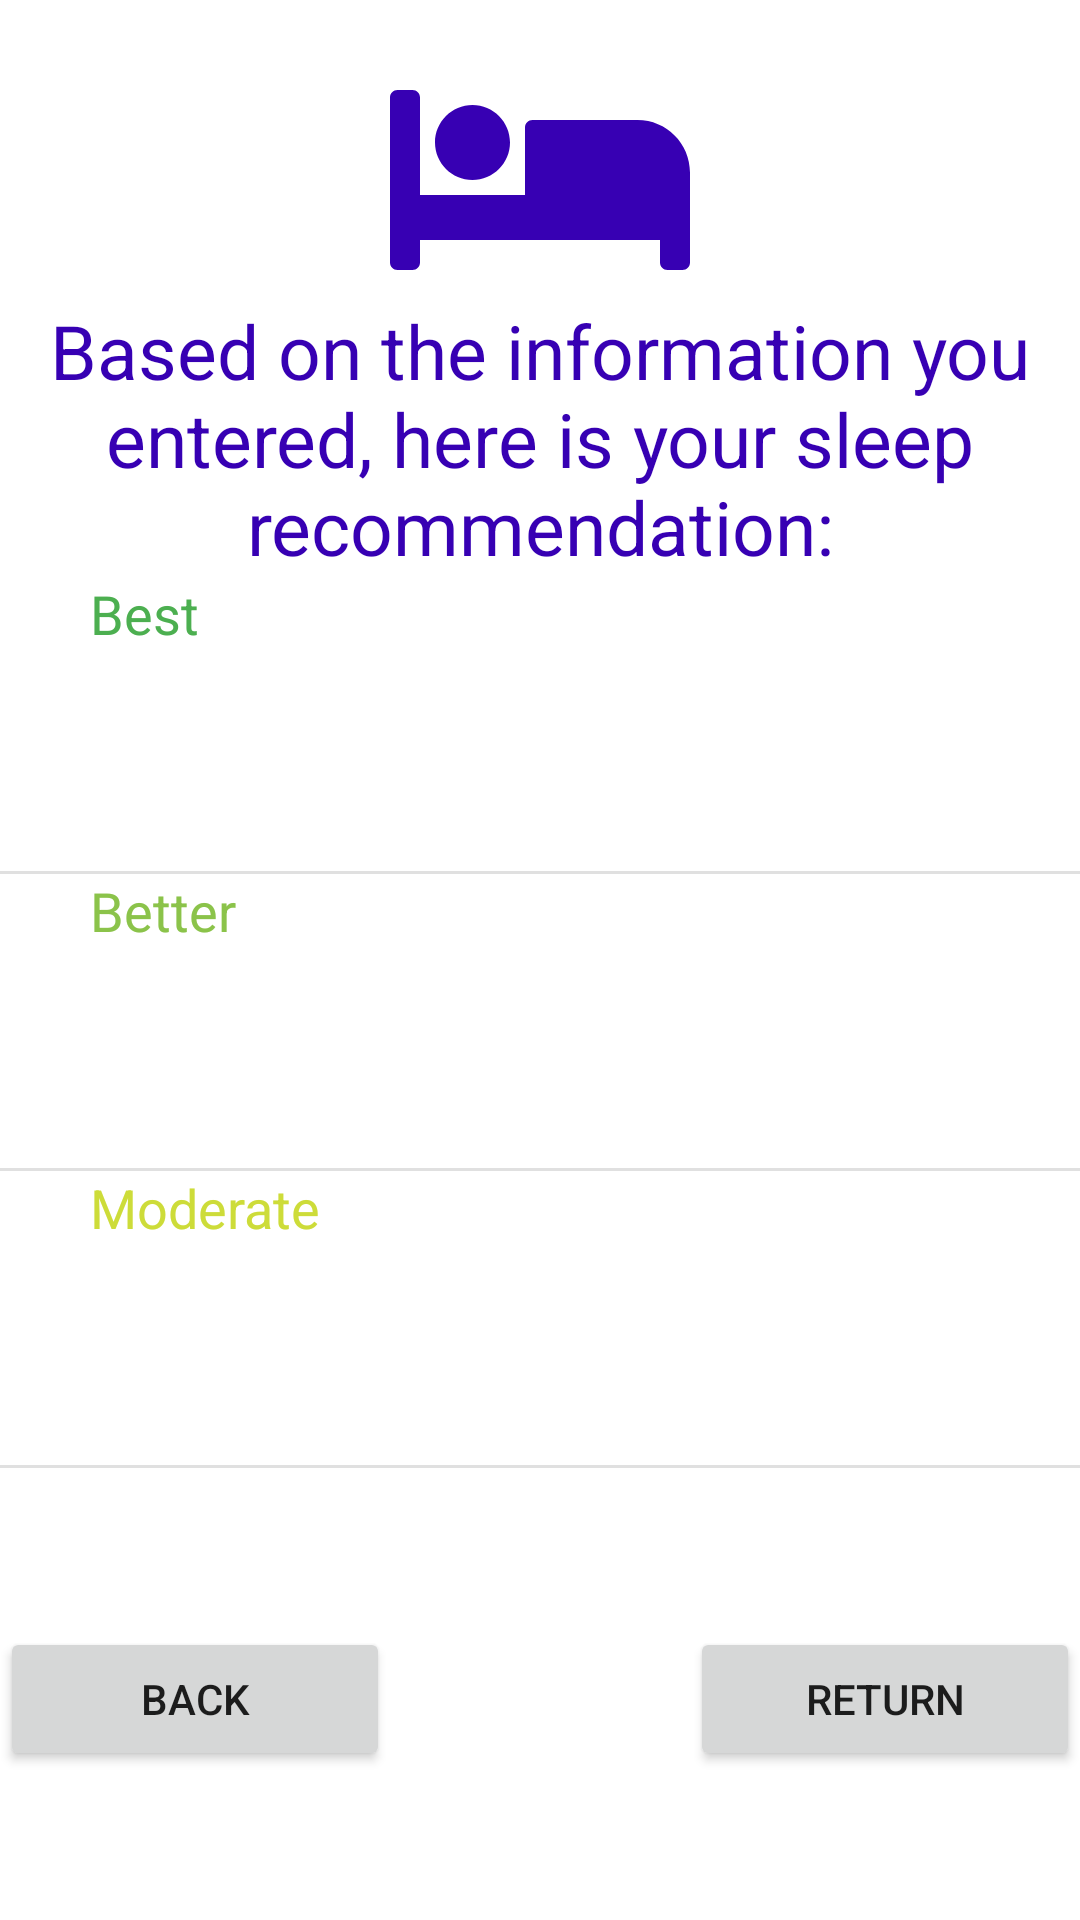

Screen size 1080×1920. Icon name, then its box in pixels as (x1,y1,x2,y2):
bed: (390,90,690,270)
